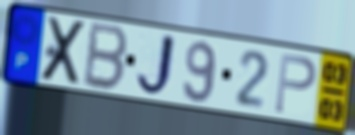2: (233, 48, 273, 111)
9: (180, 38, 218, 104)
B: (80, 19, 131, 94)
J: (133, 31, 178, 100)
P: (272, 50, 318, 116)
X: (38, 15, 90, 87)
